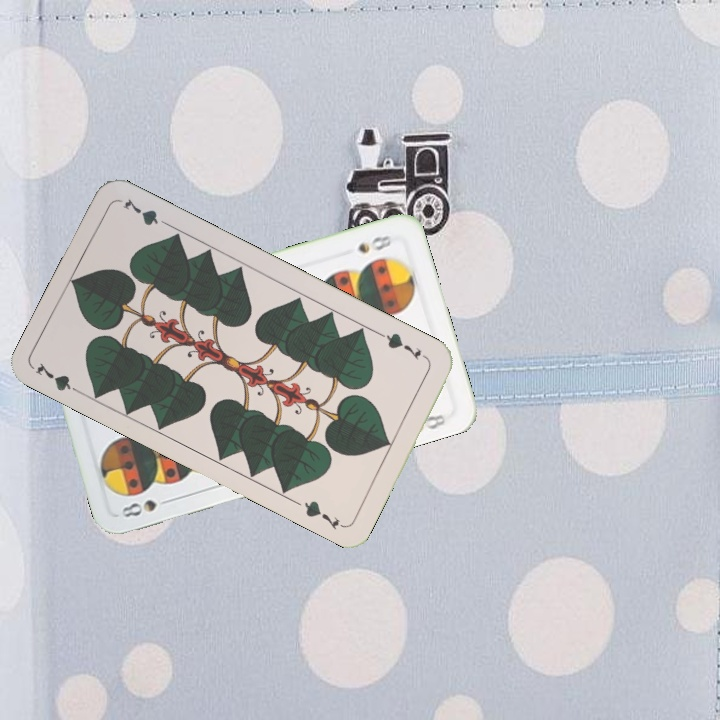G7: (31, 358, 87, 398), (376, 328, 424, 362)
S8: (117, 494, 176, 520), (354, 231, 394, 256)
